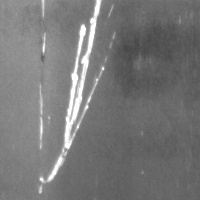scratches: (46, 1, 111, 183), (35, 62, 49, 154), (38, 0, 49, 60)
